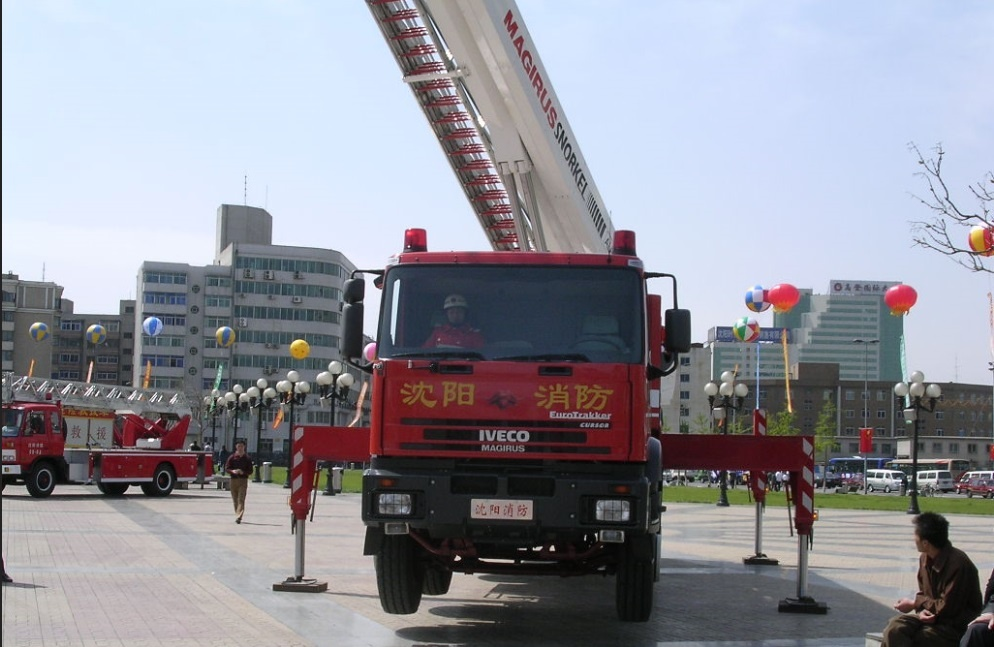fire engine: (335, 224, 675, 620)
